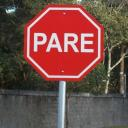Pare: (23, 3, 108, 84)
